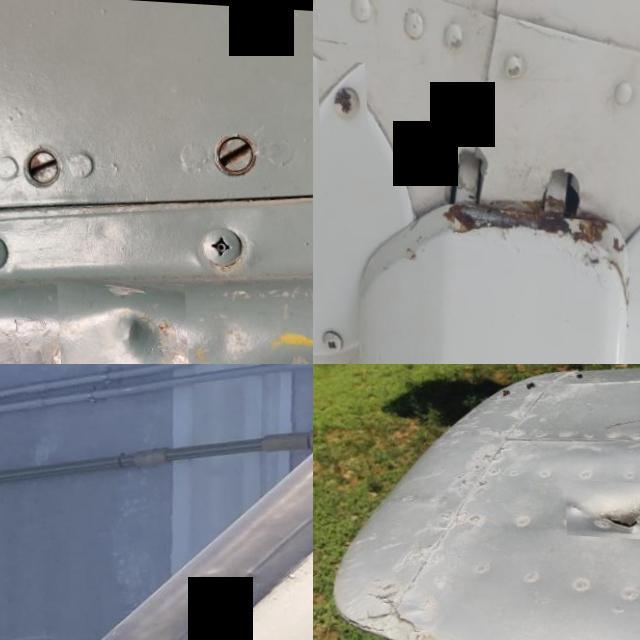Crack: (396, 118, 638, 340), (560, 475, 640, 535), (316, 57, 366, 126)
Dent: (53, 274, 186, 364)
